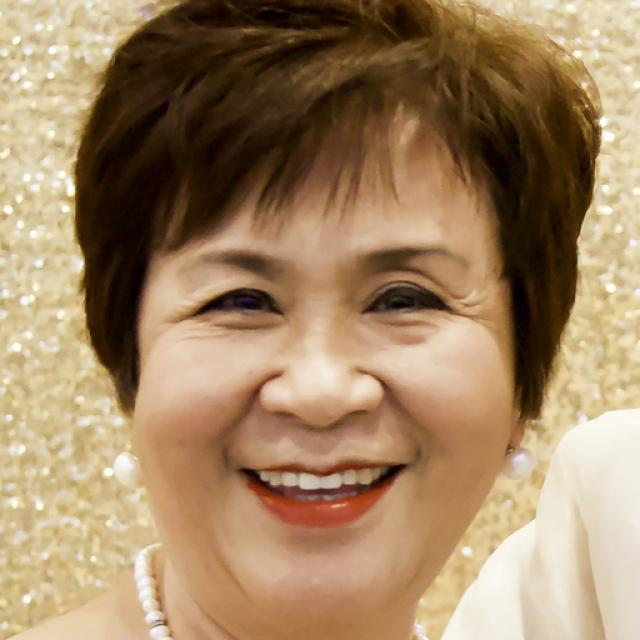happy: (136, 100, 515, 612)
